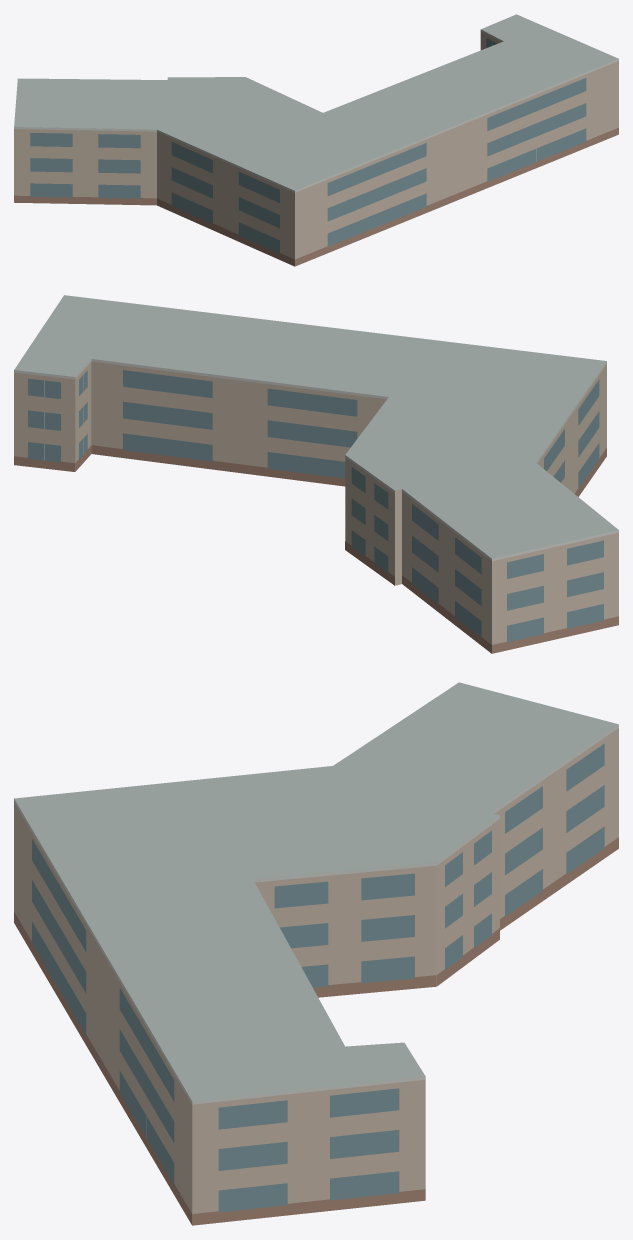
Rendered from survey-upis-32936064.glb.
3 renders of one model, top to bottom at view 1: azimuth 30°, elevation 25°; view 2: azimuth 150°, elevation 25°; view 3: azimuth 270°, elevation 25°, orthographic. The views are drawn at different scales.
Parts seen in each view (by area): view 1: survey-upis-32936064.tmp; view 2: survey-upis-32936064.tmp; view 3: survey-upis-32936064.tmp.
Boxes of the visible parts, x1=… form: survey-upis-32936064.tmp: x1=14, y1=14, x2=618, y2=266; survey-upis-32936064.tmp: x1=14, y1=295, x2=618, y2=653; survey-upis-32936064.tmp: x1=14, y1=682, x2=618, y2=1225.
Size of the model in its own units: 65.05 by 9 by 39.69.
